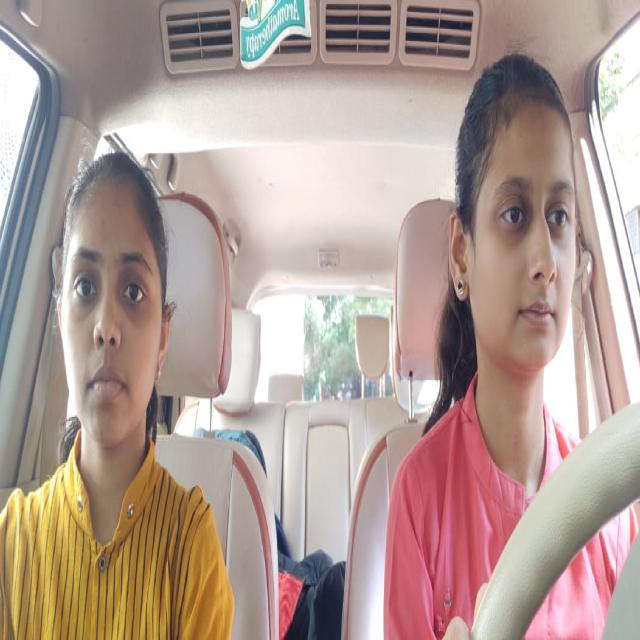person: (444, 48, 586, 406), (53, 132, 178, 483)
